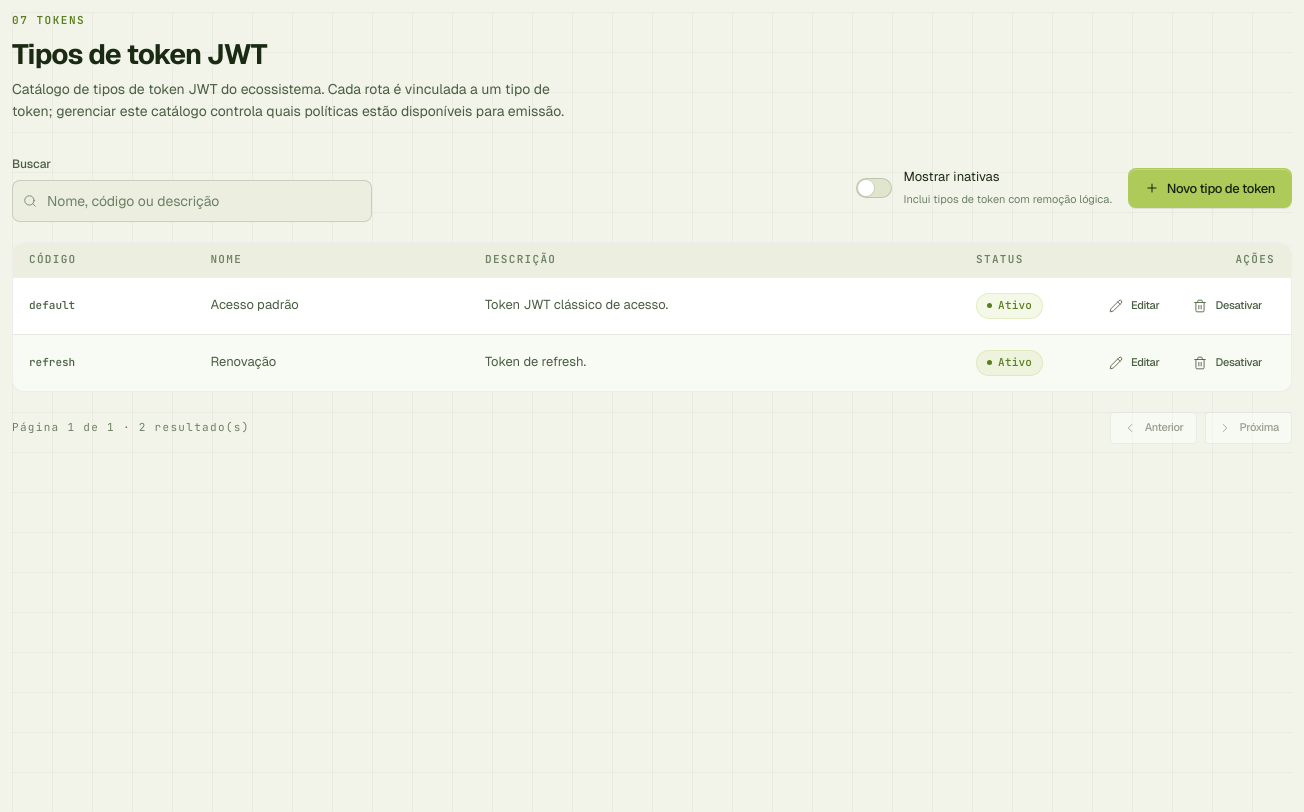
Test: TokensListShellPage — busca client-side debounced › estado vazio com busca cita o termo e oferece botão "Limpar busca"
This screenshot has width=1304, height=812.
Type "inexistente" into the search field with test id "token-types-search" at [192, 201], box x1=12 y1=180 x2=372 y2=222
Wait 350 ms
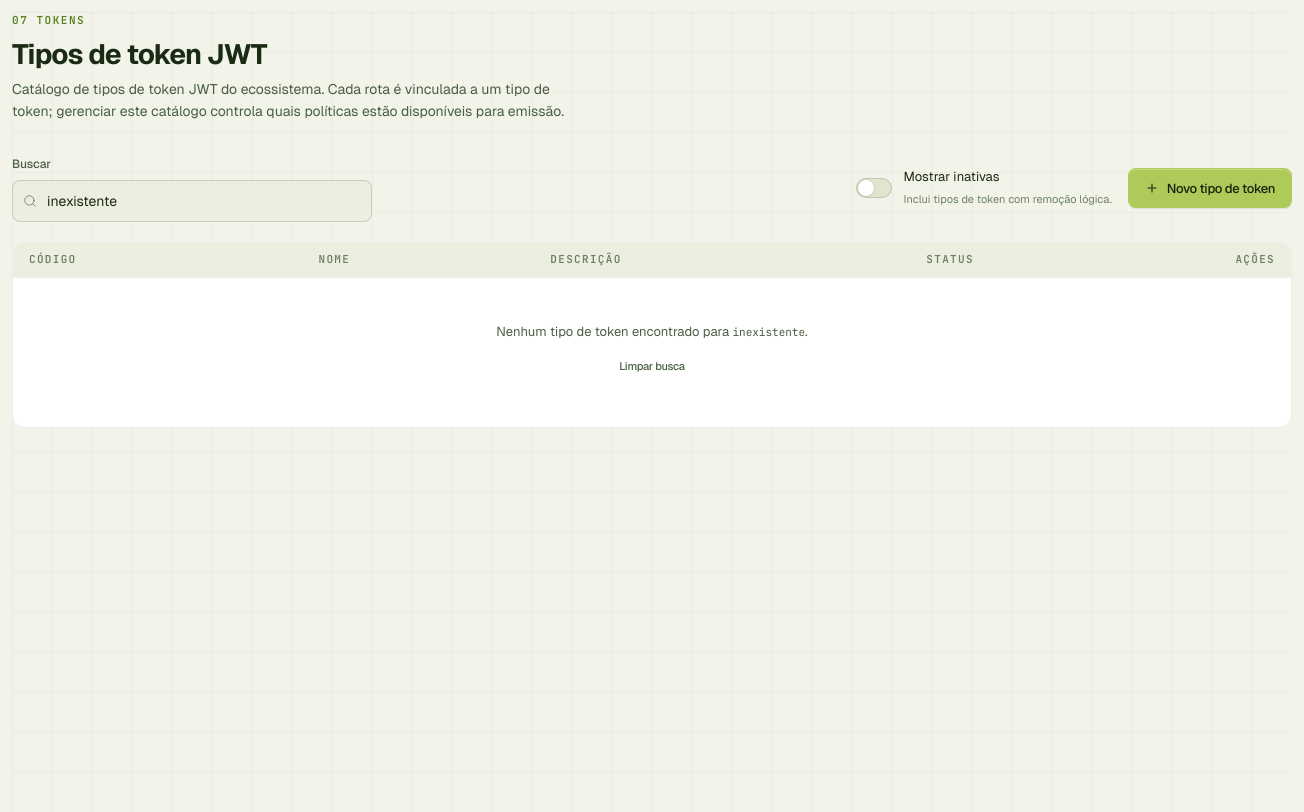
Expected: the button with test id "token-types-empty-clear" is shown, x1=606 y1=350 x2=698 y2=382
